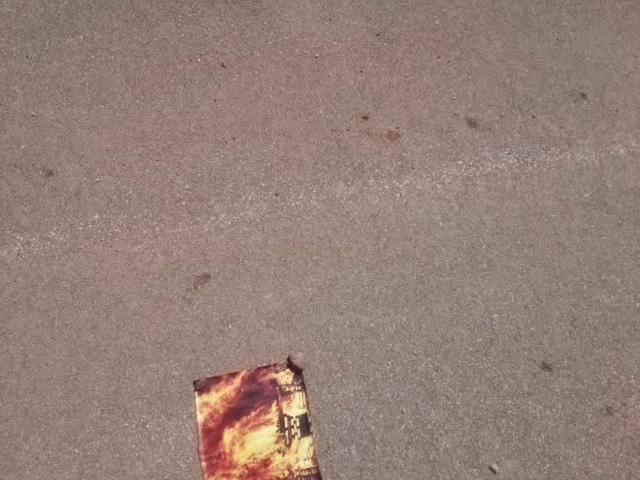fire-poster: (190, 352, 325, 479)
